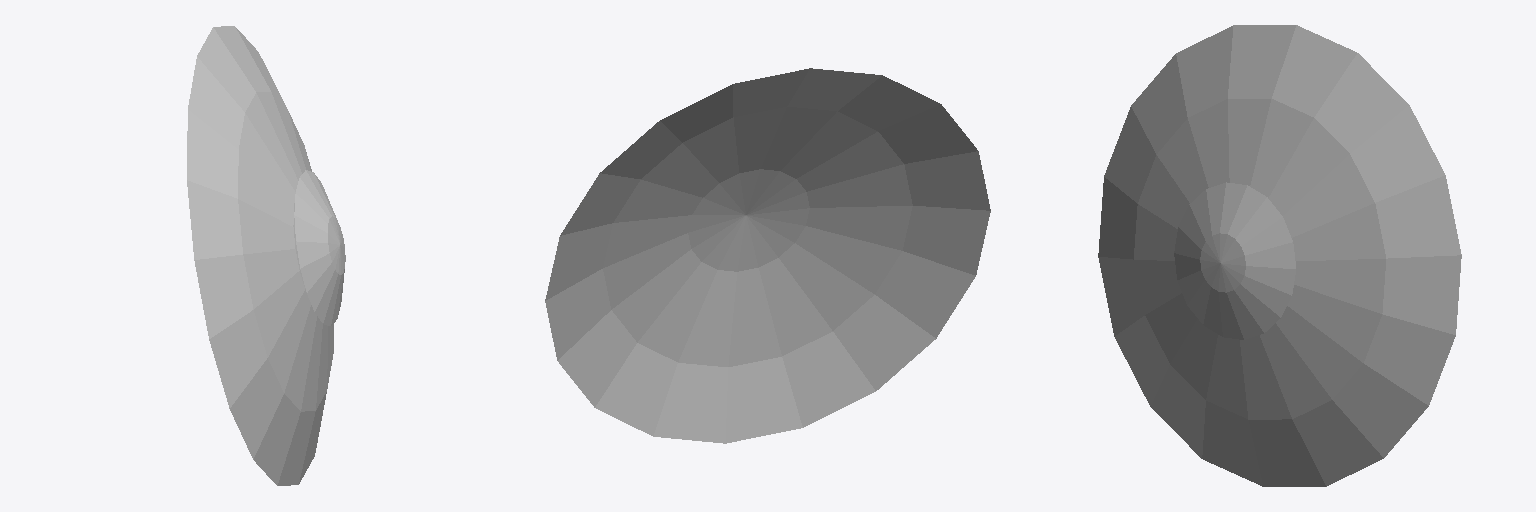
3 views of the same model, side by side, from view 1: azimuth 30°, elevation 25°; view 2: azimuth 150°, elevation 25°; view 3: azimuth 270°, elevation 25° (orthographic).
Visible parts, largest first — view 1: pikapika02a_0, pikapika02b_0; view 2: pikapika02a_0; view 3: pikapika02a_0, pikapika02b_0.
Boxes of the visible parts, box(x1,y1,x2,y2) form: pikapika02a_0: box(187, 26, 333, 485); pikapika02b_0: box(294, 170, 345, 325); pikapika02a_0: box(545, 68, 990, 443); pikapika02a_0: box(1098, 25, 1461, 486); pikapika02b_0: box(1174, 182, 1295, 339).
Bounding box in the file's own units: 23.41 × 33.85 × 27.05.